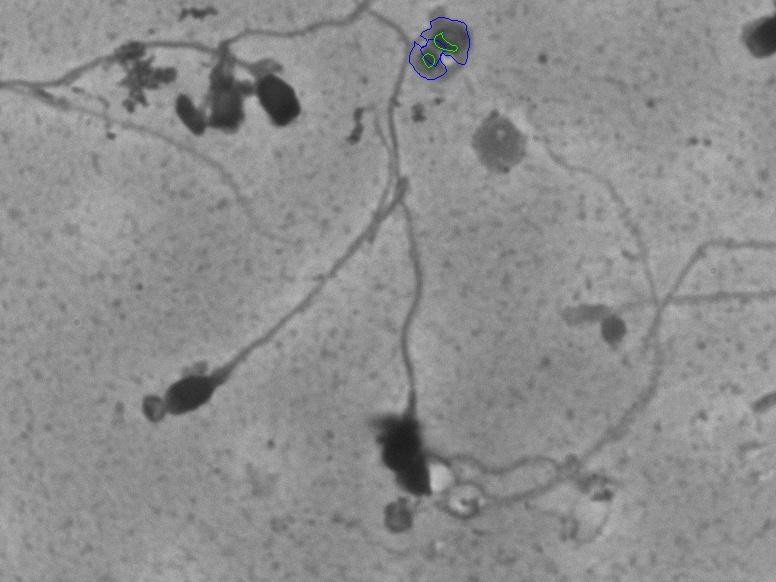Abnormal: (114, 158, 358, 425), (370, 71, 448, 487)
